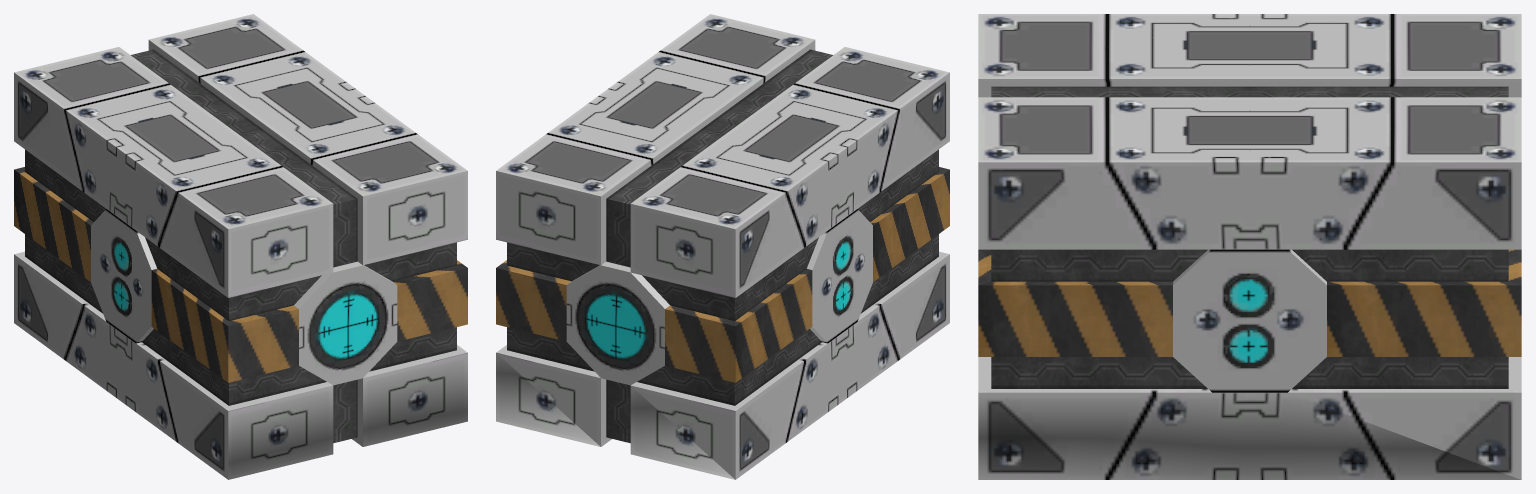
The model's file is crate4.glb.
3 views of the same model, side by side, from view 1: azimuth 30°, elevation 25°; view 2: azimuth 150°, elevation 25°; view 3: azimuth 270°, elevation 25° (orthographic). The views are drawn at different scales.
Parts seen in each view (by area): view 1: Mesh_0064; view 2: Mesh_0064; view 3: Mesh_0064.
Part boxes in pixels (x1,y1,x2,y2): Mesh_0064: (14, 14, 467, 479); Mesh_0064: (496, 14, 949, 479); Mesh_0064: (978, 14, 1521, 479).
Size of the model in its own units: 34.82 by 35.82 by 53.95.
Materials: 3 (2 with a texture image).
